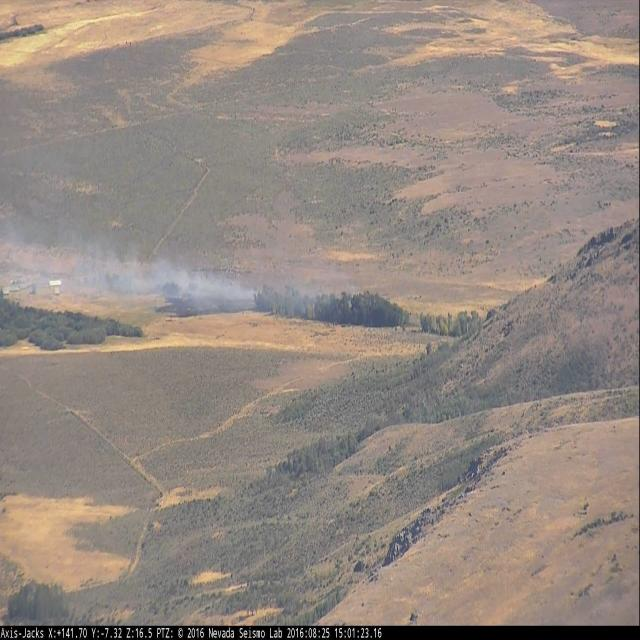smoke: (1, 225, 367, 318)
